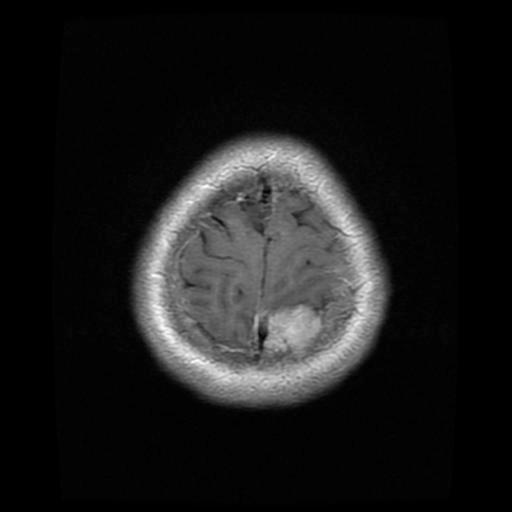Tumour-Pituitary: (241, 296, 337, 371)
